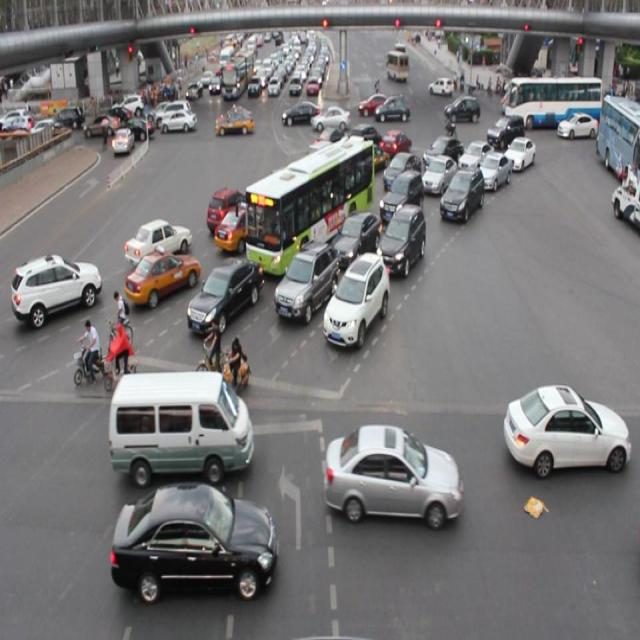car: (112, 482, 276, 592), (324, 421, 459, 524), (501, 384, 628, 472), (11, 252, 100, 320), (324, 251, 389, 343), (187, 257, 262, 330), (274, 241, 338, 315), (124, 250, 198, 303), (123, 218, 191, 269), (377, 202, 425, 272), (332, 211, 381, 265), (214, 203, 267, 250), (438, 168, 482, 220), (380, 170, 422, 222), (207, 188, 254, 234), (314, 165, 360, 202), (276, 187, 319, 225), (382, 150, 419, 193), (422, 135, 462, 173), (262, 167, 302, 203), (456, 139, 491, 177), (421, 157, 455, 196), (486, 117, 523, 152), (350, 141, 388, 175), (477, 152, 510, 191), (350, 123, 382, 159), (503, 136, 534, 172), (314, 126, 345, 158), (378, 128, 411, 158)
truck: (110, 370, 254, 480), (298, 140, 340, 179)
van: (244, 138, 373, 280)
